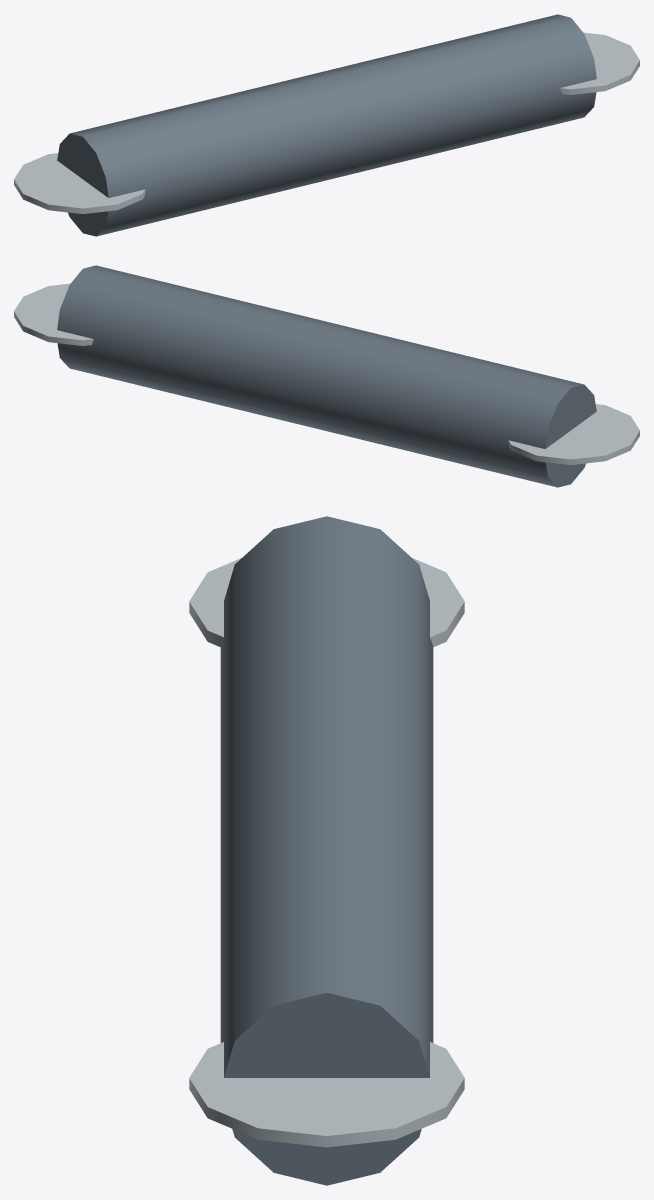
File: dart_rosa_l.deployment.roller.glb
3 views of the same model, one above another, from view 1: azimuth 30°, elevation 25°; view 2: azimuth 150°, elevation 25°; view 3: azimuth 270°, elevation 25° (orthographic). The views are drawn at different scales.
Visible parts, largest first — view 1: dart_rosa_l.deployment.roller.mesh_Machined_steel, dart_rosa_l.deployment.roller.mesh_Satin_aluminum; view 2: dart_rosa_l.deployment.roller.mesh_Machined_steel, dart_rosa_l.deployment.roller.mesh_Satin_aluminum; view 3: dart_rosa_l.deployment.roller.mesh_Machined_steel, dart_rosa_l.deployment.roller.mesh_Satin_aluminum.
Boxes of the visible parts, x1,y1,x2,y2 form: dart_rosa_l.deployment.roller.mesh_Machined_steel: (57,14,596,236); dart_rosa_l.deployment.roller.mesh_Satin_aluminum: (14,32,639,213); dart_rosa_l.deployment.roller.mesh_Machined_steel: (57,265,596,487); dart_rosa_l.deployment.roller.mesh_Satin_aluminum: (14,283,639,464); dart_rosa_l.deployment.roller.mesh_Machined_steel: (220,516,433,1185); dart_rosa_l.deployment.roller.mesh_Satin_aluminum: (189,558,464,1147).
Size of the model in its own units: 1.12 by 0.17 by 0.22.
